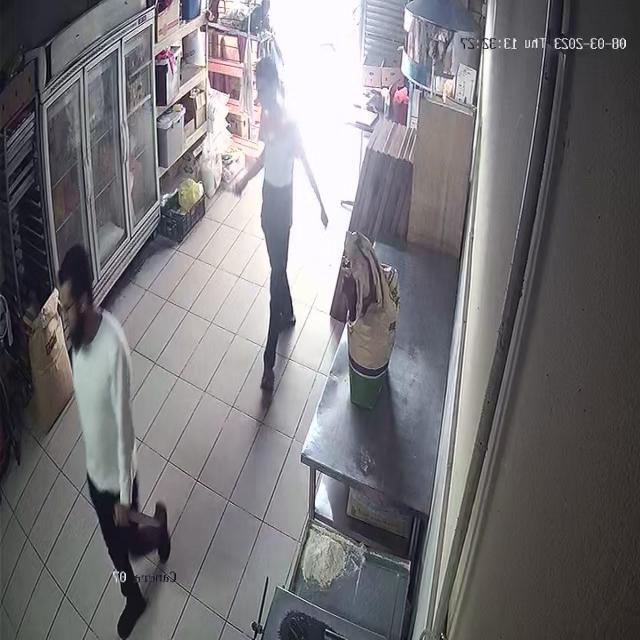Knife: (110, 497, 165, 535)
